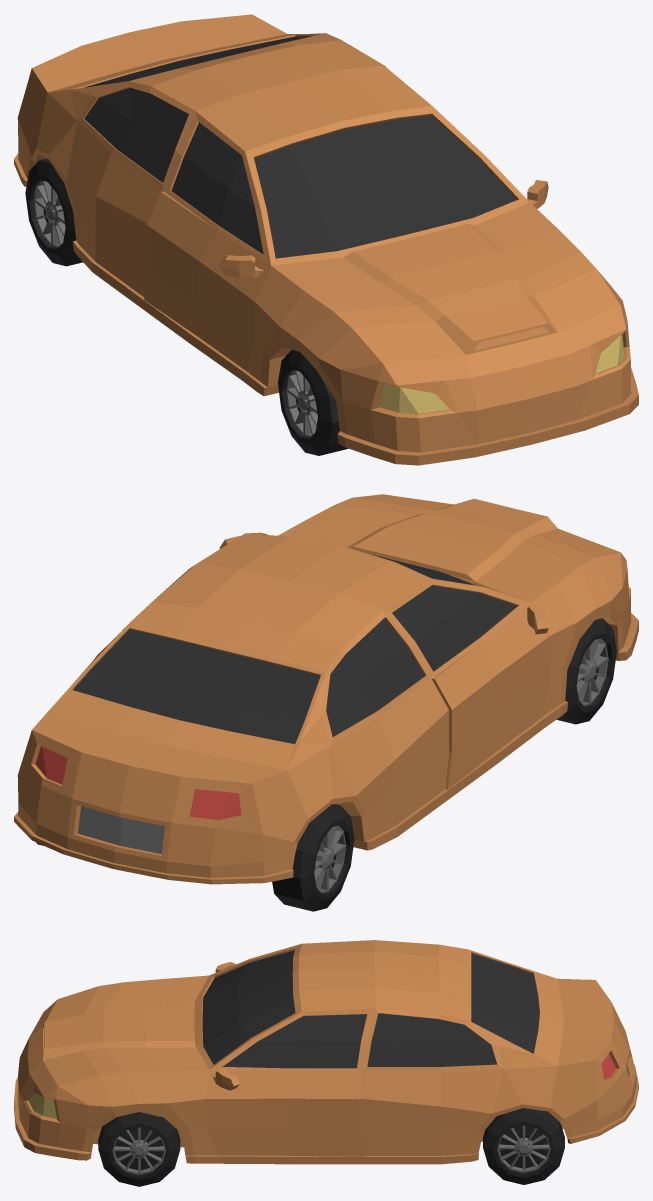
File: poly-sport-roadster.glb
The picture shows the model from 3 angles, top to bottom: view 1: azimuth 30°, elevation 25°; view 2: azimuth 150°, elevation 25°; view 3: azimuth 270°, elevation 25°; orthographic projection. The views are drawn at different scales.
Parts seen in each view (by area): view 1: SportsCar_Cube.005, SportsCar_BackWheels_Cylinder.004; view 2: SportsCar_Cube.005, SportsCar_BackWheels_Cylinder.004; view 3: SportsCar_Cube.005, SportsCar_BackWheels_Cylinder.004.
Part boxes in pixels (x1=…): SportsCar_Cube.005: x1=14, y1=14, x2=638, y2=465; SportsCar_BackWheels_Cylinder.004: x1=25, y1=158, x2=348, y2=455; SportsCar_Cube.005: x1=14, y1=494, x2=638, y2=892; SportsCar_BackWheels_Cylinder.004: x1=36, y1=618, x2=616, y2=911; SportsCar_Cube.005: x1=14, y1=940, x2=638, y2=1174; SportsCar_BackWheels_Cylinder.004: x1=98, y1=1108, x2=564, y2=1186.
Size of the model in its own units: 1.8 by 1.16 by 3.97.
